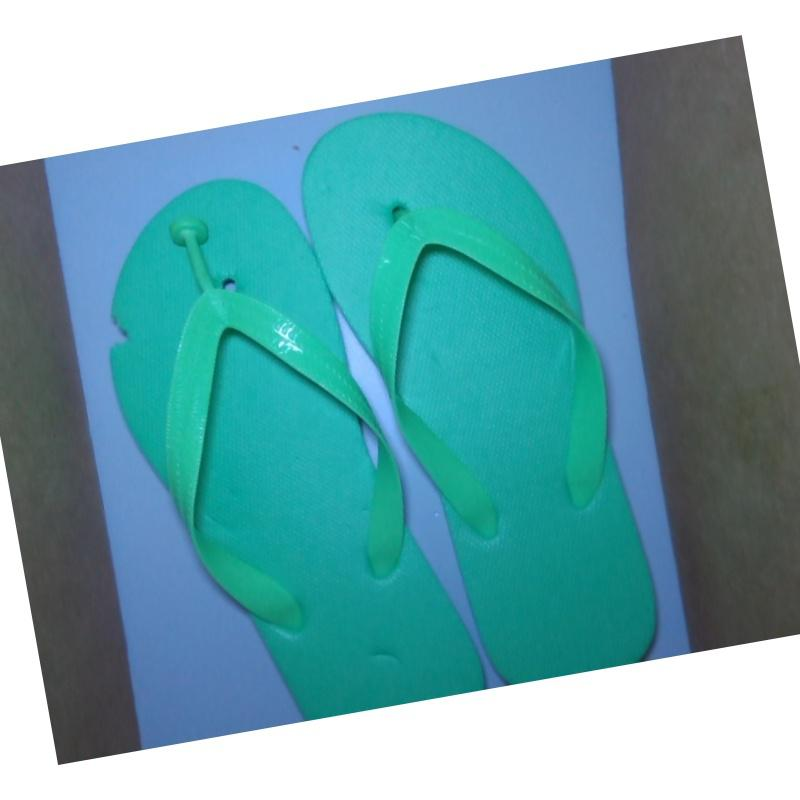chipped: (98, 298, 145, 369)
detached: (160, 205, 220, 261)
